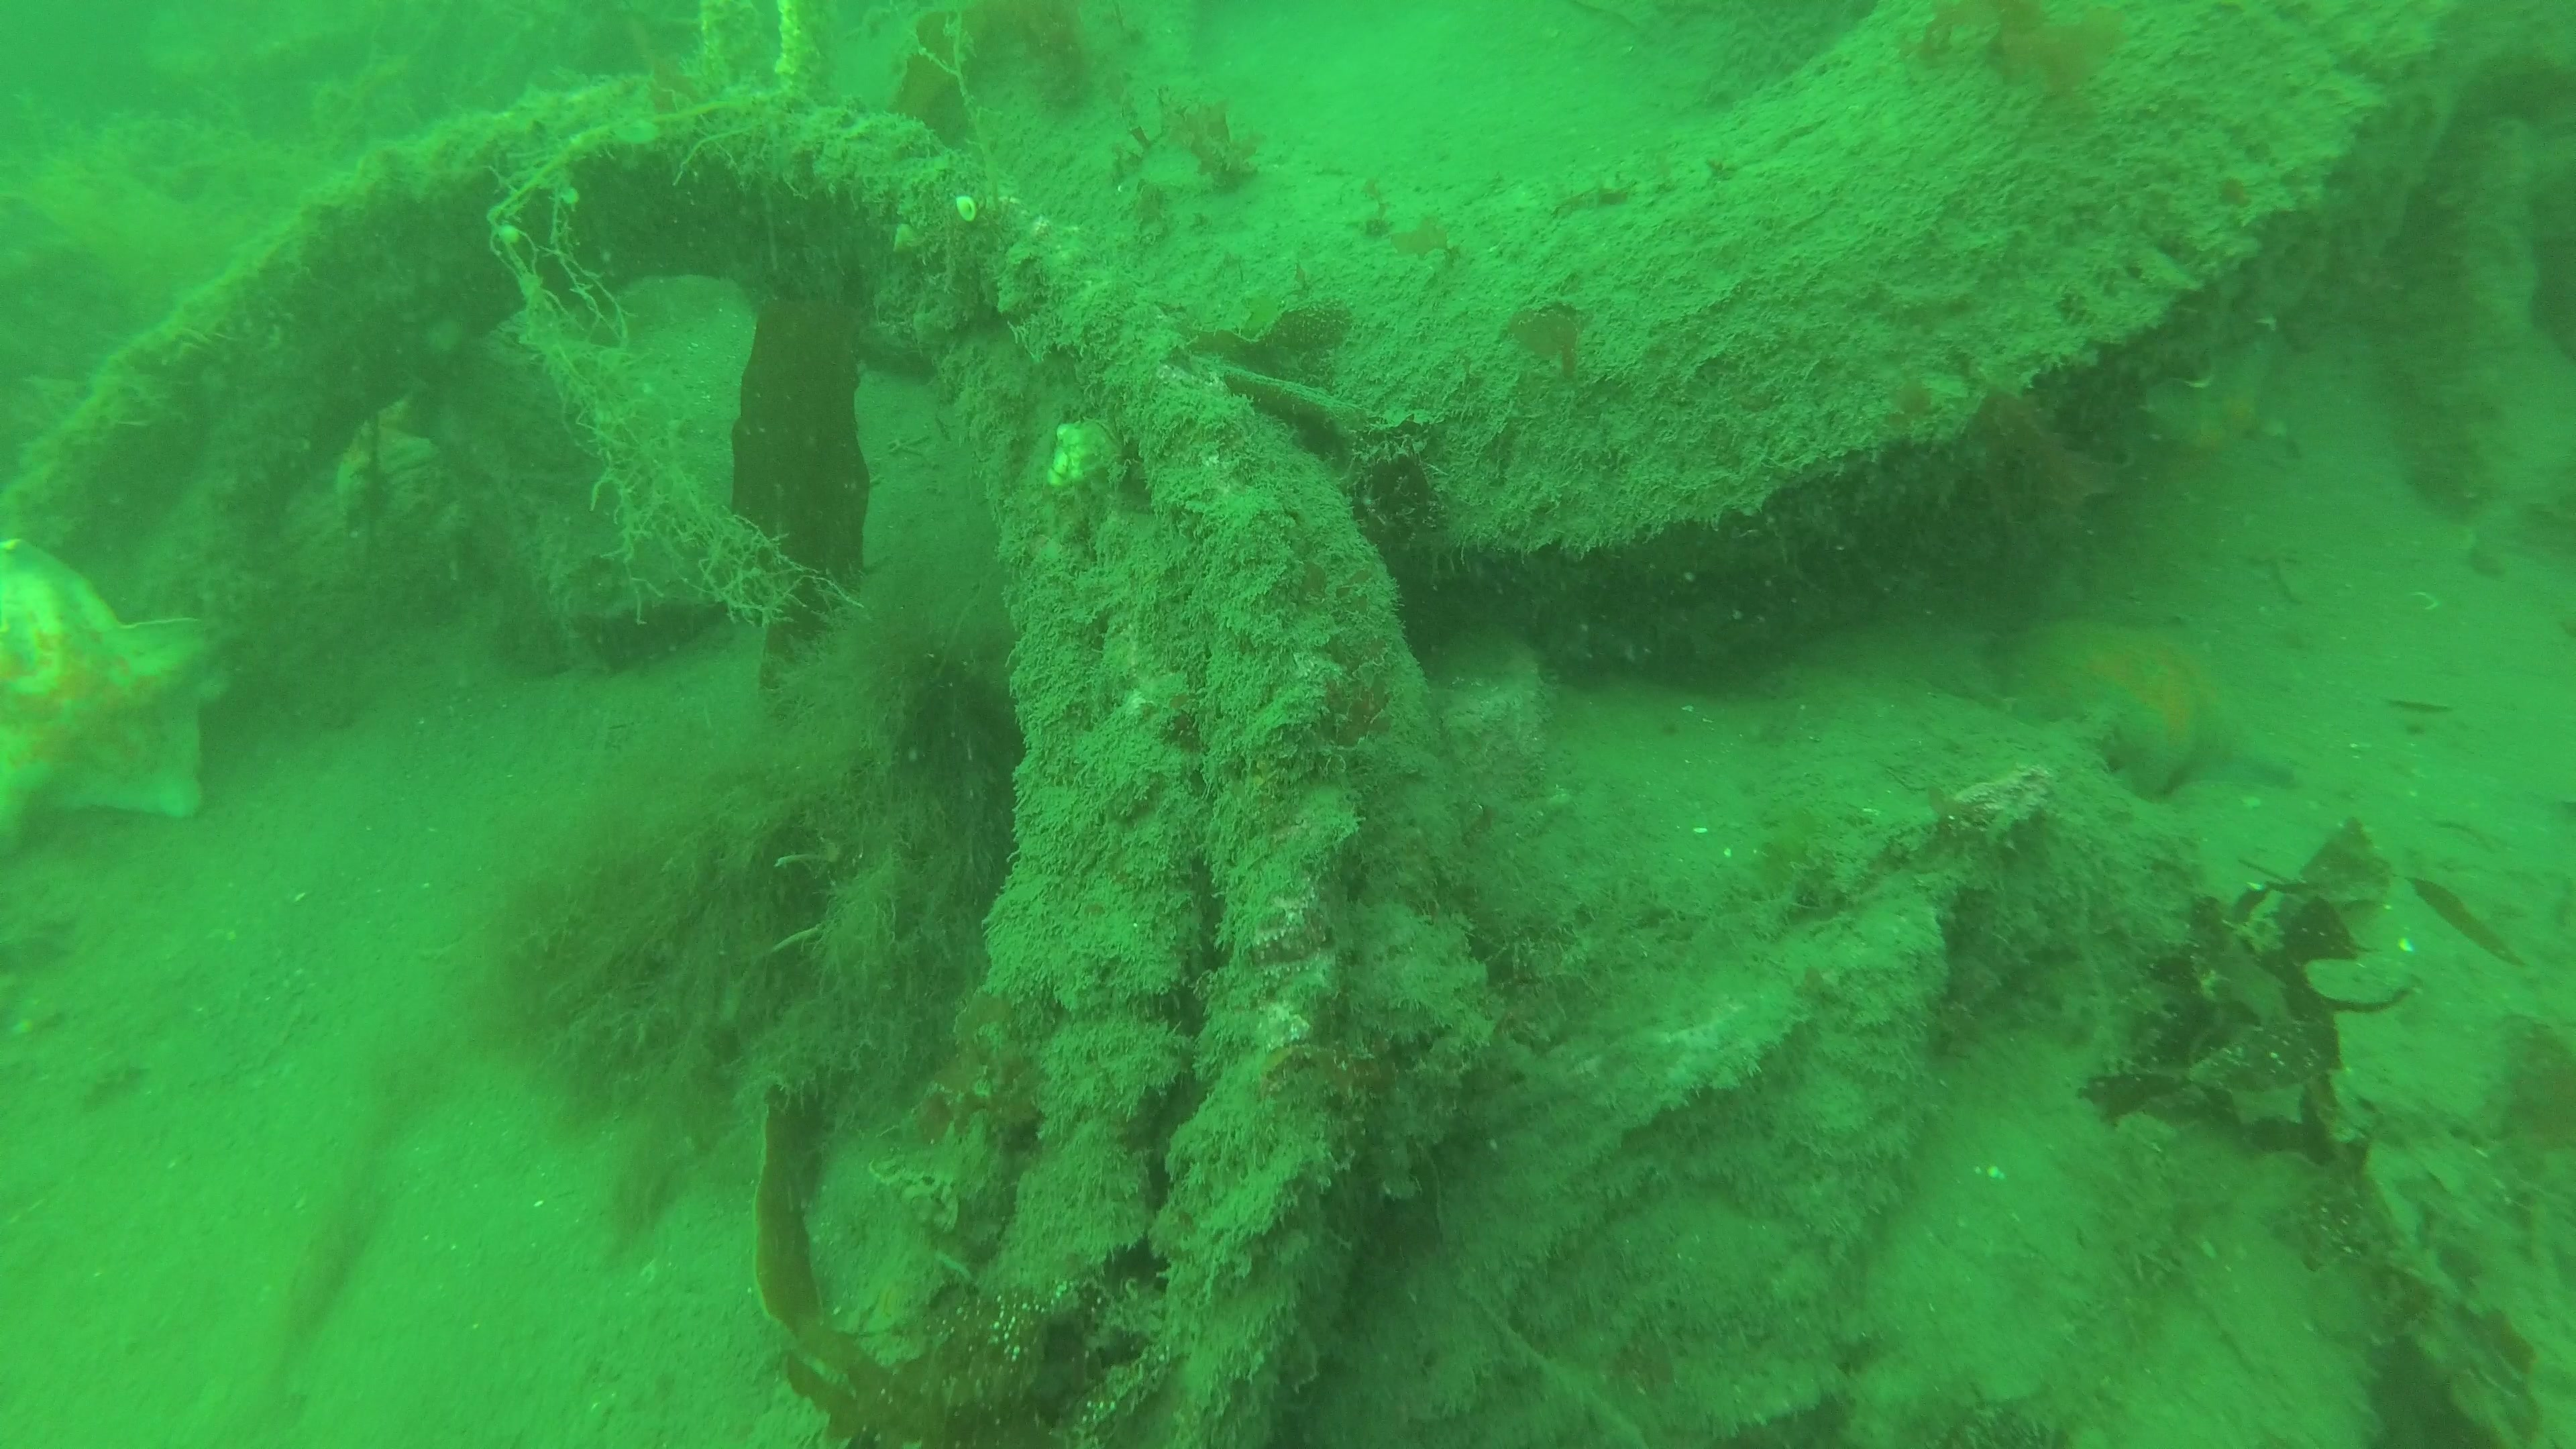starfish: (0, 533, 225, 876), (1997, 612, 2305, 807), (2123, 322, 2305, 478), (322, 384, 458, 541)
